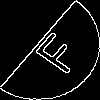F: (24, 25, 86, 77)
